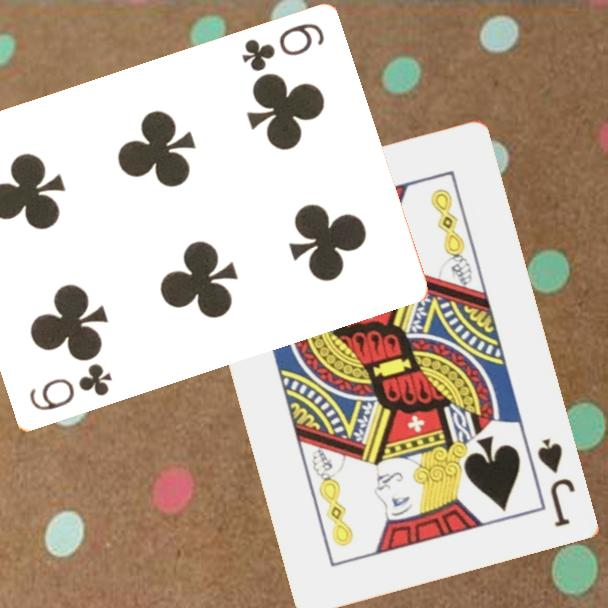c06: (238, 20, 327, 75), (25, 360, 115, 414)
s11: (533, 434, 578, 530)
